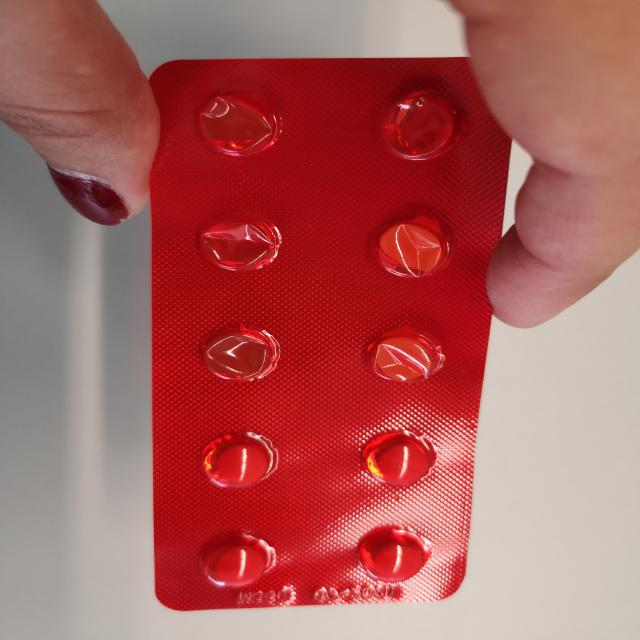Empty: (183, 81, 297, 163), (374, 87, 467, 171), (185, 204, 290, 278), (347, 326, 462, 390), (368, 210, 458, 284), (187, 318, 286, 384)
Pill: (348, 420, 449, 490), (189, 426, 280, 495), (192, 529, 292, 590), (351, 519, 436, 589)
